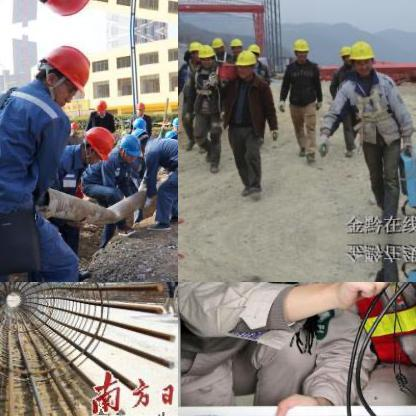Helmet: (30, 36, 98, 104), (29, 0, 99, 24), (79, 122, 113, 162), (344, 38, 374, 72), (114, 132, 138, 158), (236, 46, 258, 74), (290, 34, 310, 58), (198, 42, 216, 68), (184, 37, 202, 61), (226, 34, 242, 53), (131, 127, 149, 143), (335, 44, 351, 62), (210, 34, 224, 54), (246, 40, 260, 58), (92, 98, 106, 114), (132, 98, 146, 113), (169, 116, 177, 131)
